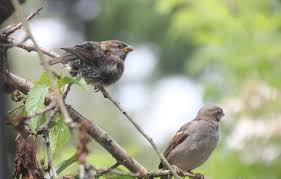hsparrow: (153, 102, 228, 179), (41, 35, 143, 91)
